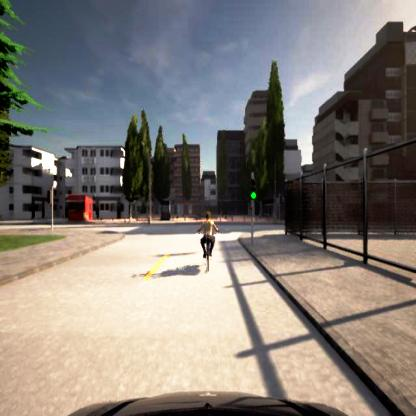bike: (197, 210, 220, 272)
